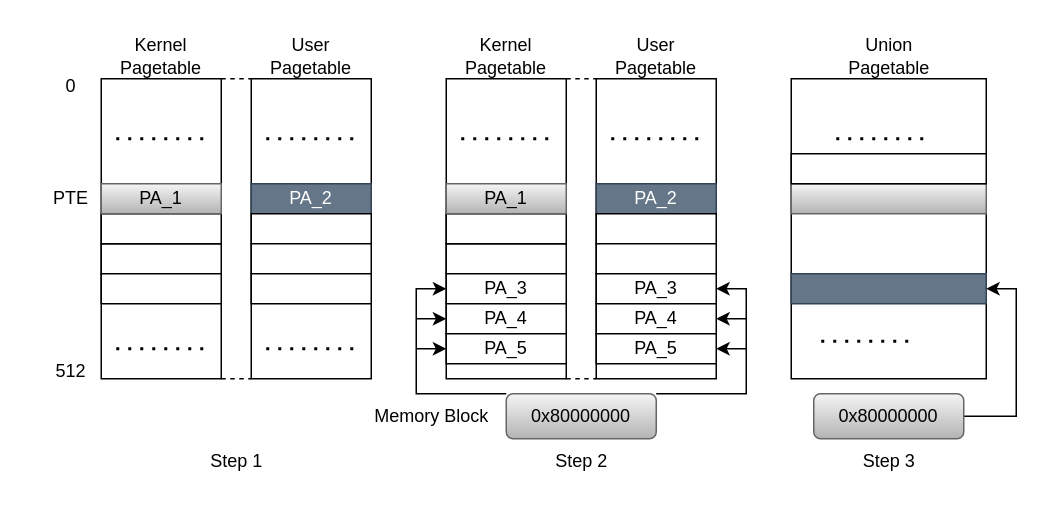
Image size: 1055x509. Some labels were removed from this diagram. Each missing label, with the centre of its shape:
"Kernel Only" goes at point (888, 198).
"Kernel Staff" goes at point (888, 168).
"User Only" goes at point (888, 288).
